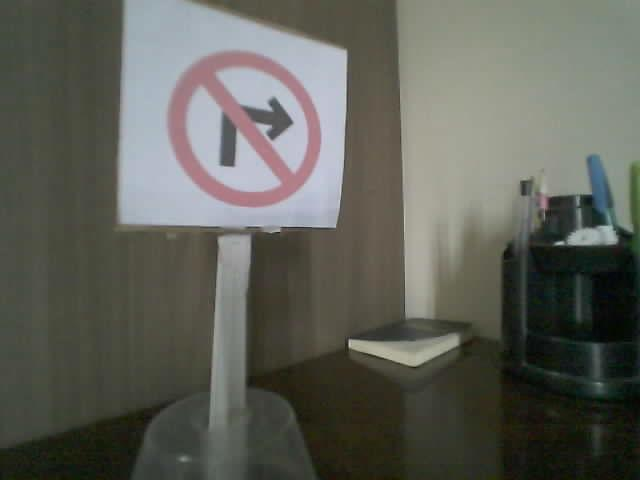R-4b_proibido-direita: (167, 49, 320, 208)
